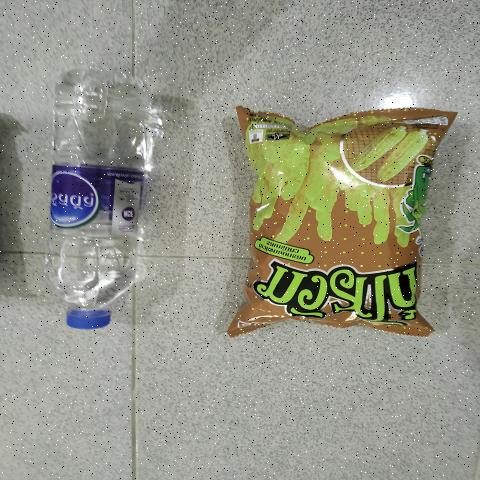crystal: (49, 77, 149, 331)
twisco: (260, 108, 443, 325)
